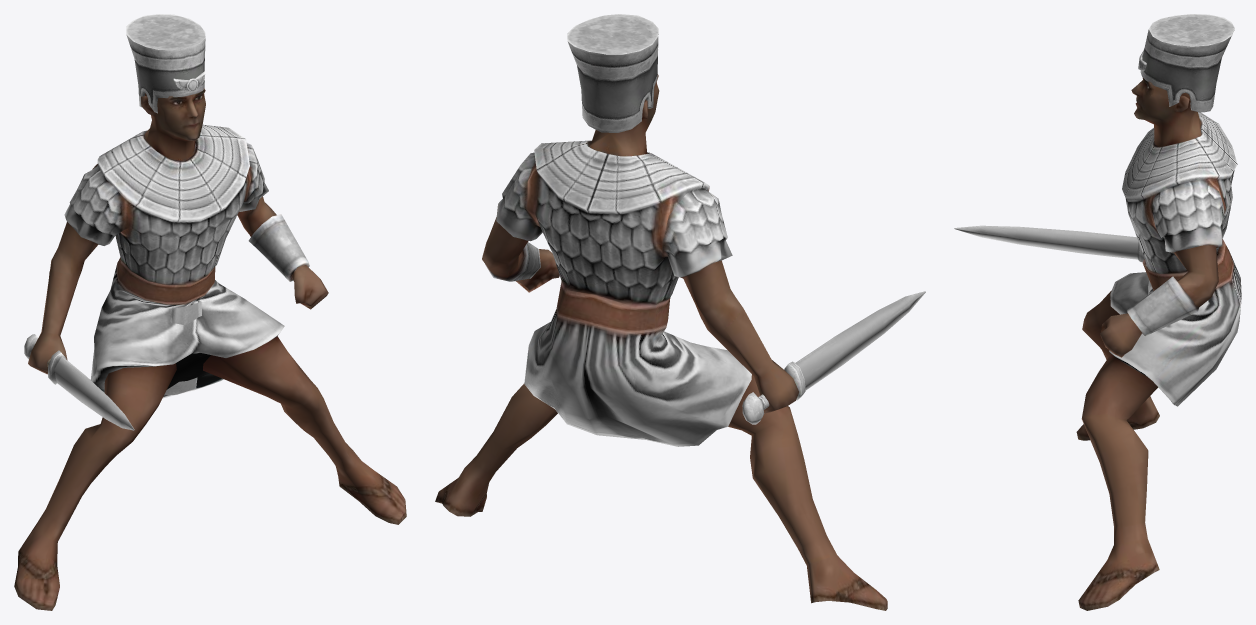
The model's file is rider-heavycamelriders.glb.
The picture shows the model from 3 angles, left to right: view 1: azimuth 30°, elevation 25°; view 2: azimuth 150°, elevation 25°; view 3: azimuth 270°, elevation 25°; orthographic projection. The views are drawn at different scales.
Bounding box in the file's own units: 1.55 × 1.91 × 1.
3 materials, 3 textured.
